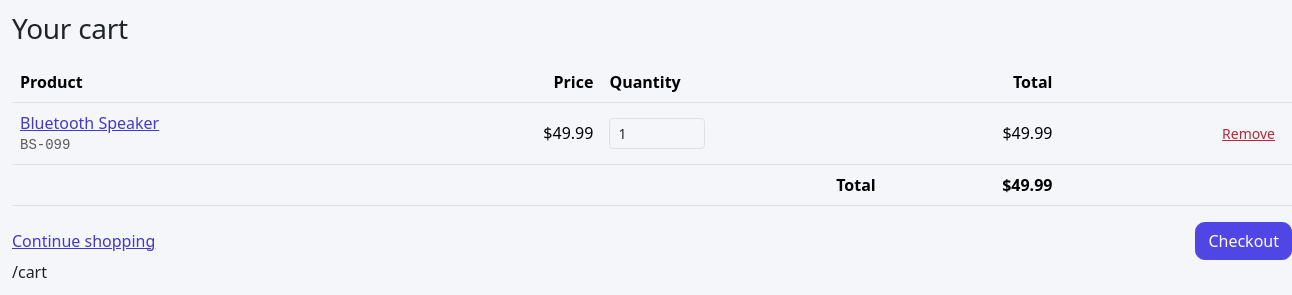
Test case: CartPage › removes a line from a column that screen readers can name
What coordinates should you click on to do the following:
click the button "Remove"
I would click on:
 (1249, 133)
Its box is x1=1213 y1=118 x2=1284 y2=149.
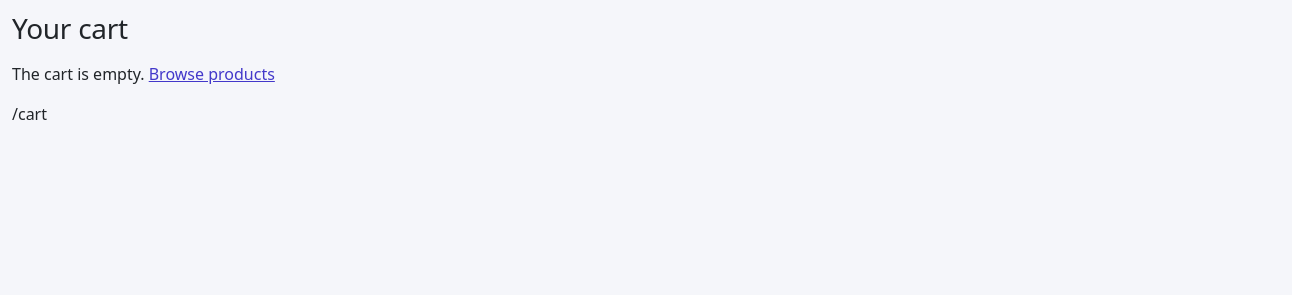
expect the text "The cart is empty. Browse products" is shown: met, box x1=12 y1=63 x2=275 y2=85
